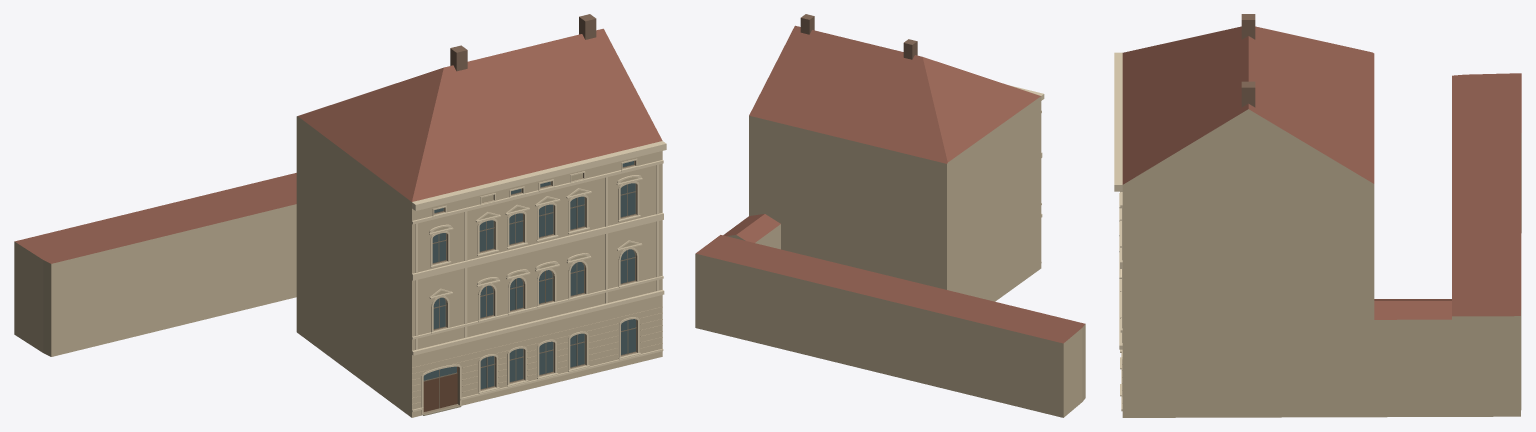
File: 262-gpt-pruceli-v1.glb
3 renders of one model, left to right at view 1: azimuth 30°, elevation 25°; view 2: azimuth 150°, elevation 25°; view 3: azimuth 270°, elevation 25°, orthographic. The views are drawn at different scales.
Visible parts, largest first — view 1: Pruceli, Hmota, Strecha, Stresni_prvky; view 2: Hmota, Strecha, Stresni_prvky; view 3: Hmota, Strecha, Pruceli, Stresni_prvky.
Part boxes in pixels (x1,y1,x2,y2): Pruceli: (412,141,666,417); Hmota: (14,116,411,417); Strecha: (14,28,662,263); Stresni_prvky: (450,14,596,71); Hmota: (695,96,1085,417); Strecha: (696,25,1085,343); Stresni_prvky: (800,14,917,59); Hmota: (1122,109,1521,417); Strecha: (1122,26,1521,319); Pruceli: (1114,52,1122,411); Stresni_prvky: (1241,14,1255,107).
Bounding box in the file's own units: 31.23 × 19.35 × 22.01.
